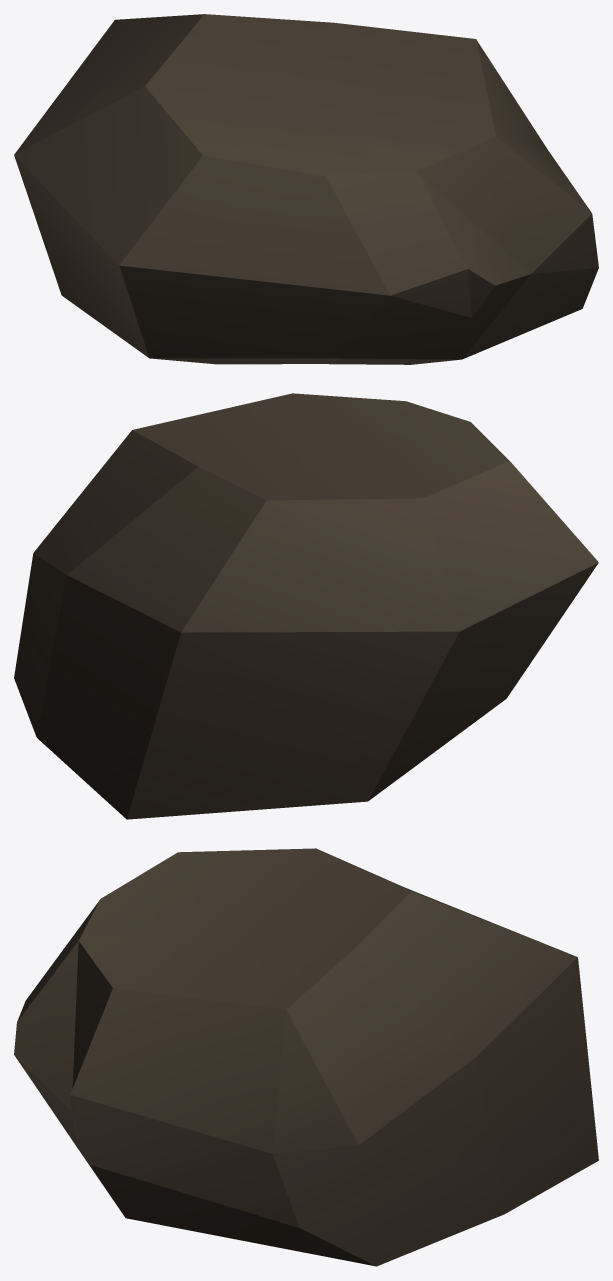
The model's file is LandMass_Rock.fbx.
The picture shows the model from 3 angles, top to bottom: view 1: azimuth 30°, elevation 25°; view 2: azimuth 150°, elevation 25°; view 3: azimuth 270°, elevation 25°; orthographic projection. The views are drawn at different scales.
Visible parts, largest first — view 1: LandMass_Rock; view 2: LandMass_Rock; view 3: LandMass_Rock.
Boxes of the visible parts, x1,y1,x2,y2 form: LandMass_Rock: (14, 14, 598, 364); LandMass_Rock: (14, 393, 598, 819); LandMass_Rock: (14, 848, 598, 1266).
Size of the model in its own units: 2606 by 2772 by 1443.
Materials: 1 (1 with a texture image).
